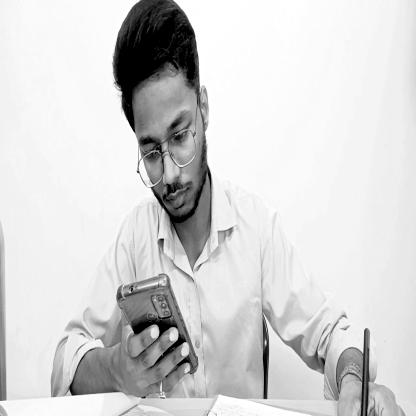Distracted: (114, 2, 209, 231)
